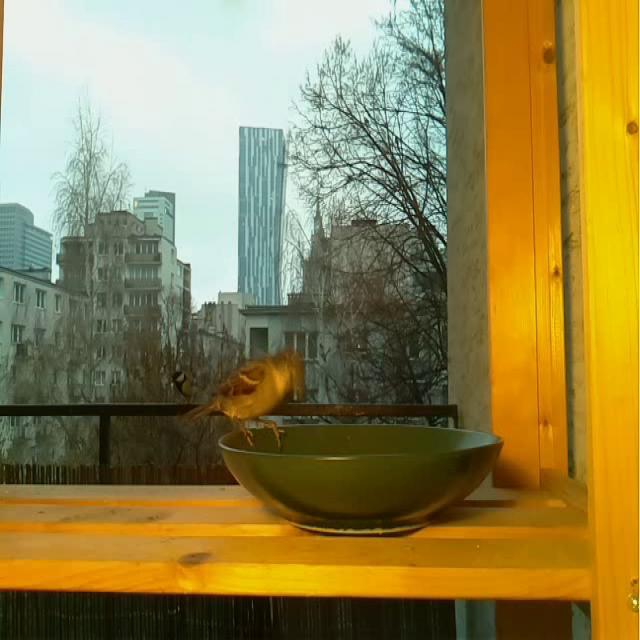Wrobel: (181, 347, 312, 453)
